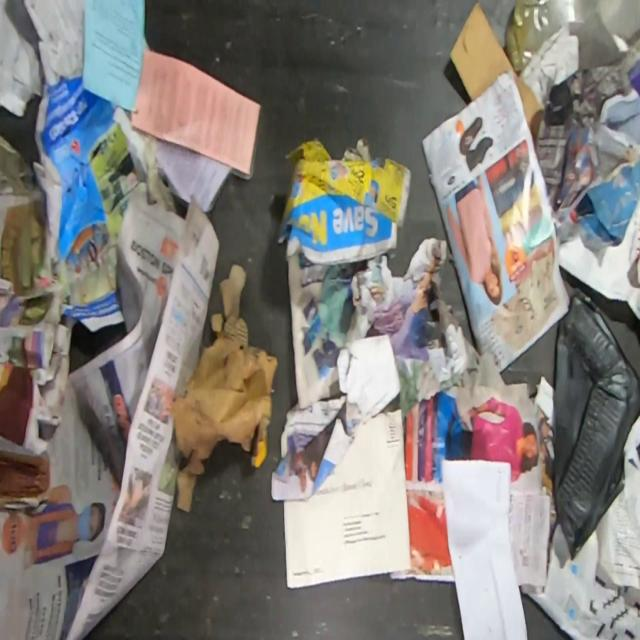cardboard: (172, 265, 277, 511), (448, 1, 544, 137), (578, 161, 639, 246)
rigid_plastic: (550, 292, 640, 561)
soft_plastic: (505, 0, 640, 70)
